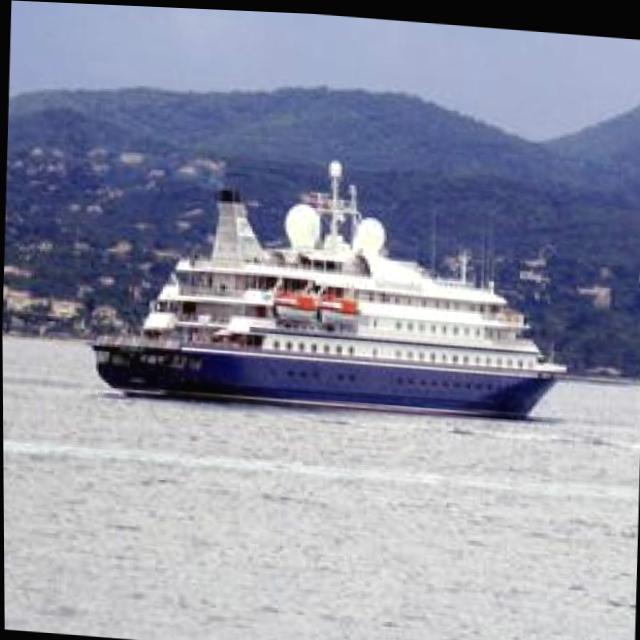ship2: (89, 157, 565, 418)
